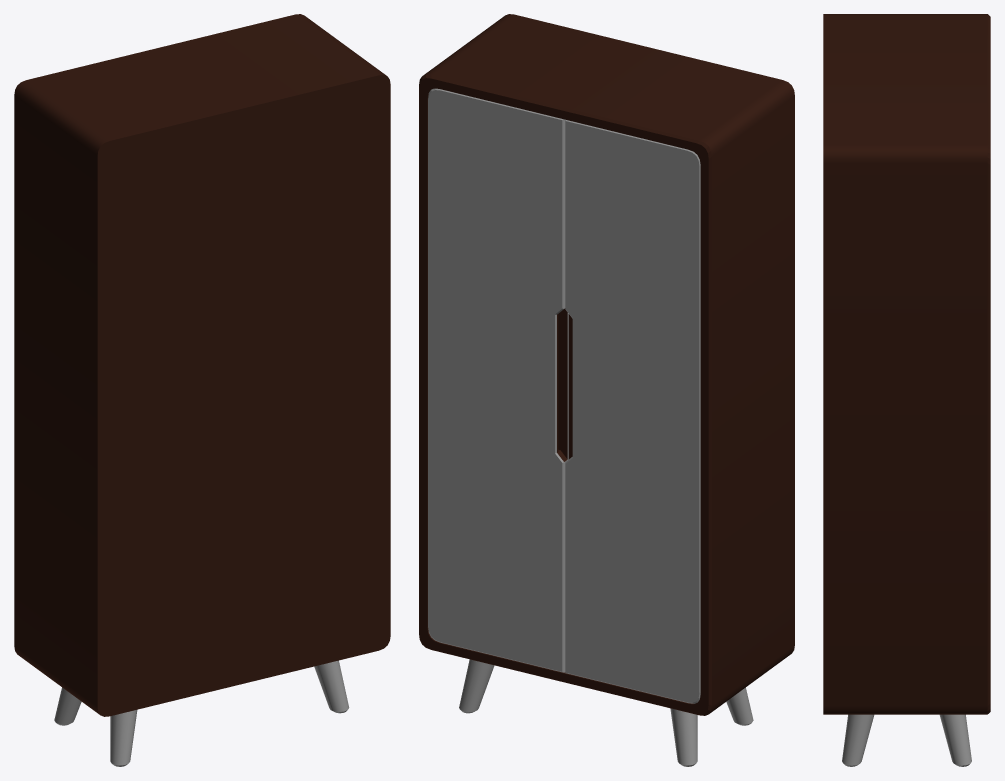
Rendered from h-004_wardrobe_01-02_F.FBX.
The picture shows the model from 3 angles, left to right: view 1: azimuth 30°, elevation 25°; view 2: azimuth 150°, elevation 25°; view 3: azimuth 270°, elevation 25°; orthographic projection.
Parts seen in each view (by area): view 1: h-004_wardrobe_01-01_frame; view 2: h-004_wardrobe_01-01_frame, h-004_wardrobe_01-02_door_L, h-004_wardrobe_01-02_door_R; view 3: h-004_wardrobe_01-01_frame.
Part boxes in pixels (bbox=[...]): h-004_wardrobe_01-01_frame: bbox=[14, 14, 390, 766]; h-004_wardrobe_01-01_frame: bbox=[419, 14, 794, 766]; h-004_wardrobe_01-02_door_L: bbox=[428, 88, 568, 672]; h-004_wardrobe_01-02_door_R: bbox=[565, 119, 700, 703]; h-004_wardrobe_01-01_frame: bbox=[823, 14, 990, 766].
Size of the model in its own units: 12 by 25 by 6.
